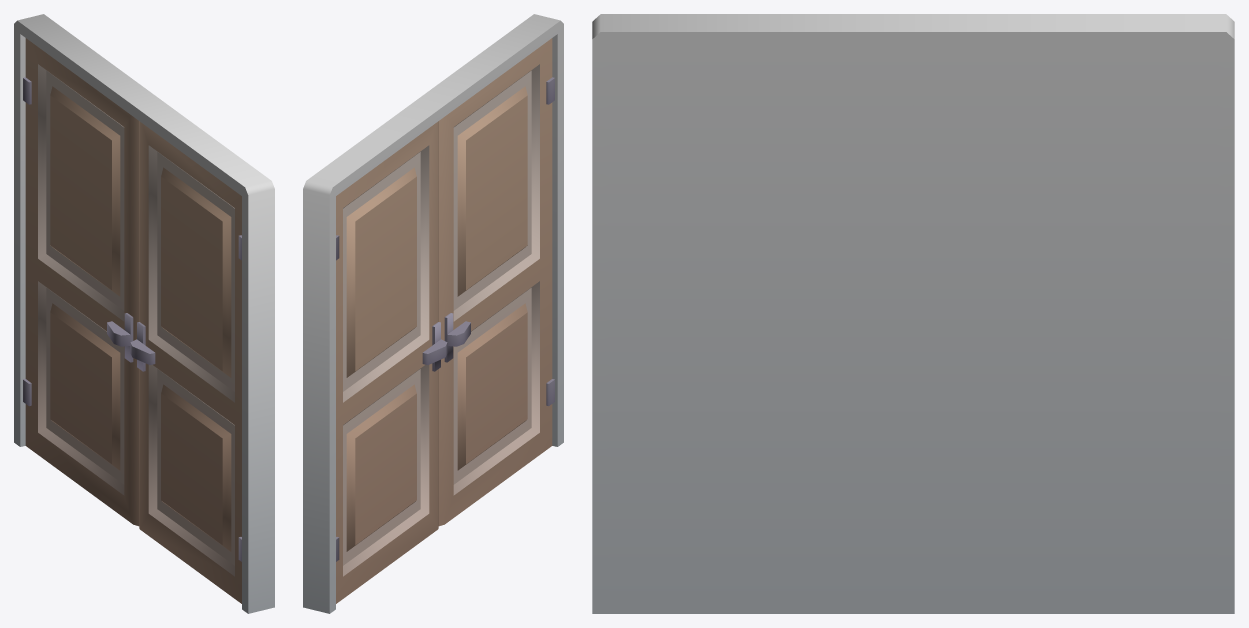
File: door-double-decorative (%wall).glb
3 renders of one model, left to right at view 1: azimuth 30°, elevation 25°; view 2: azimuth 150°, elevation 25°; view 3: azimuth 270°, elevation 25°, orthographic. The views are drawn at different scales.
Parts seen in each view (by area): view 1: door-double-decorative (%wall); view 2: door-double-decorative (%wall); view 3: door-double-decorative (%wall).
Part boxes in pixels (left/top/right/bottom): door-double-decorative (%wall): left=14, top=14, right=274, bottom=613; door-double-decorative (%wall): left=303, top=14, right=563, bottom=613; door-double-decorative (%wall): left=592, top=14, right=1234, bottom=613.
Size of the model in its own units: 0.1625 by 1.9 by 1.9.
